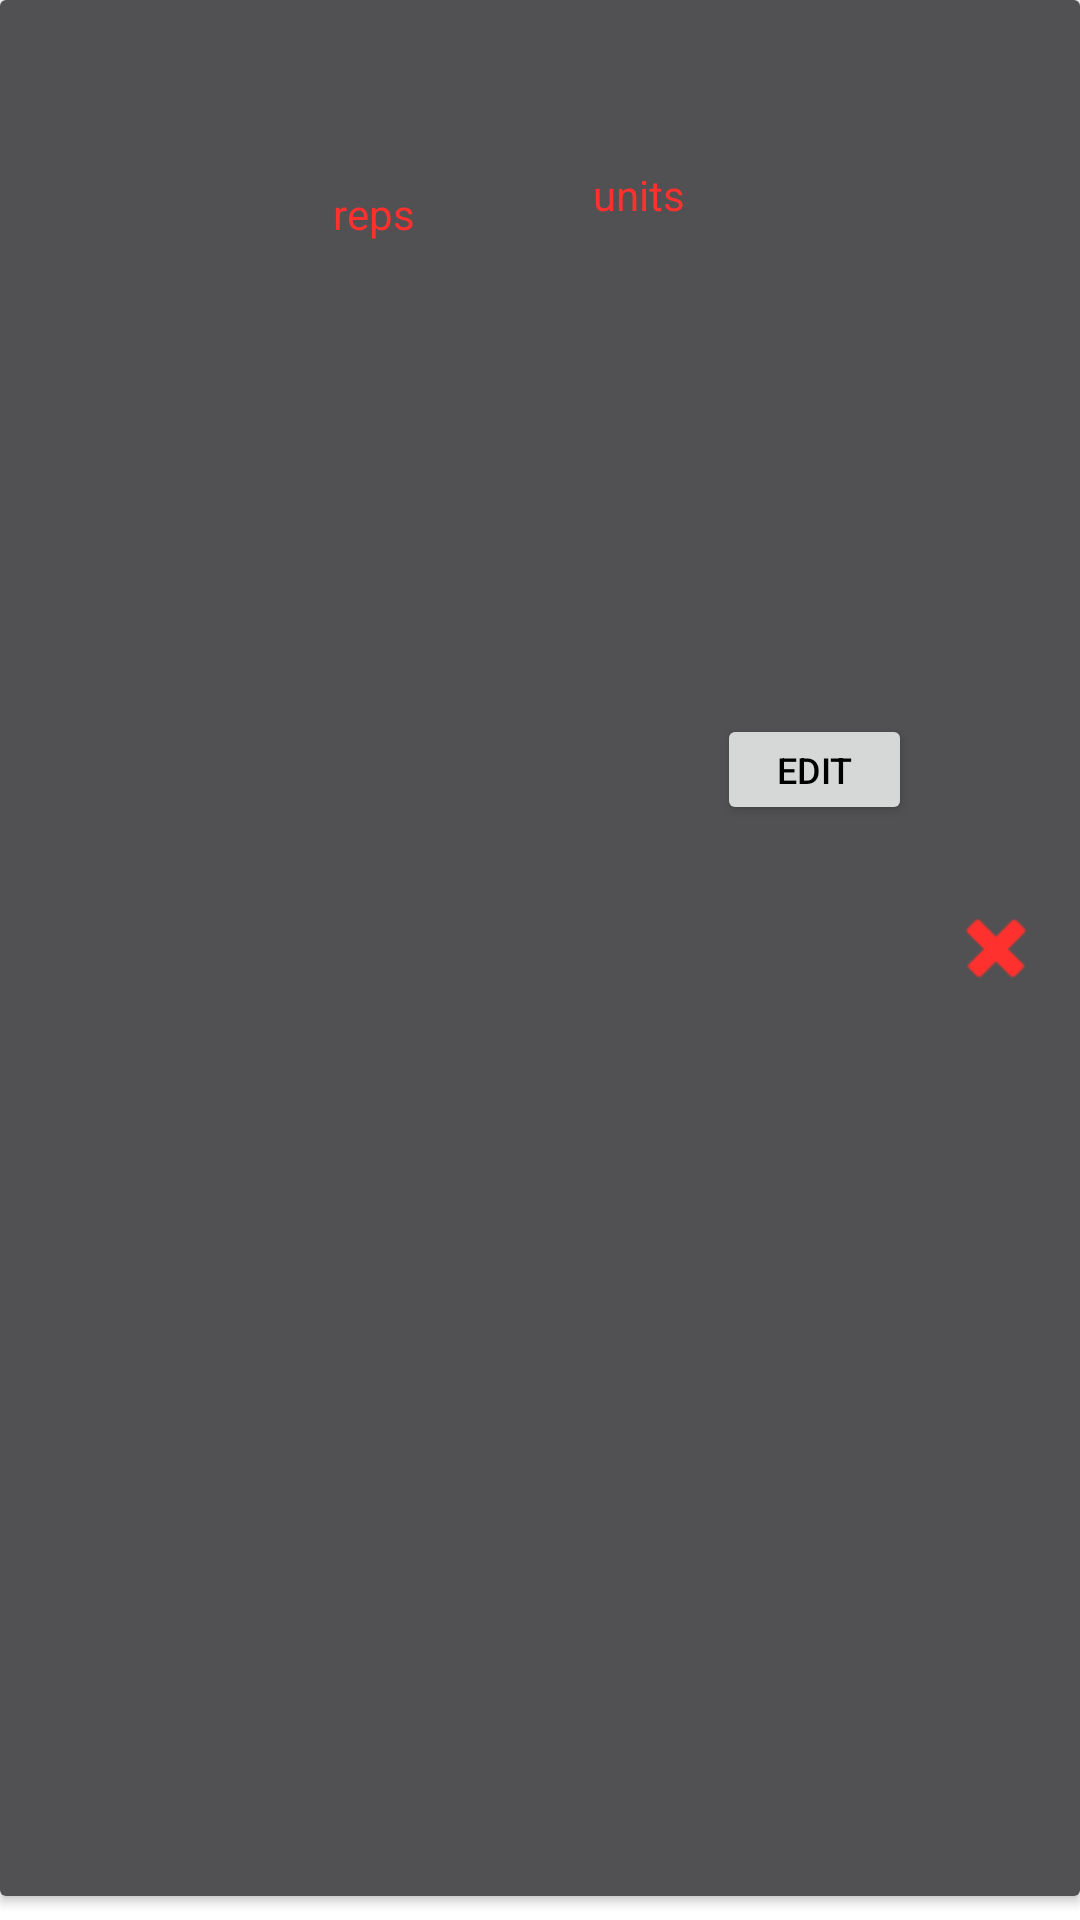

Locate icon controls on the screen. Image size 1080*1920, boxes as box(x1, y1, x2, y2).
delete: box(966, 919, 1026, 978)
